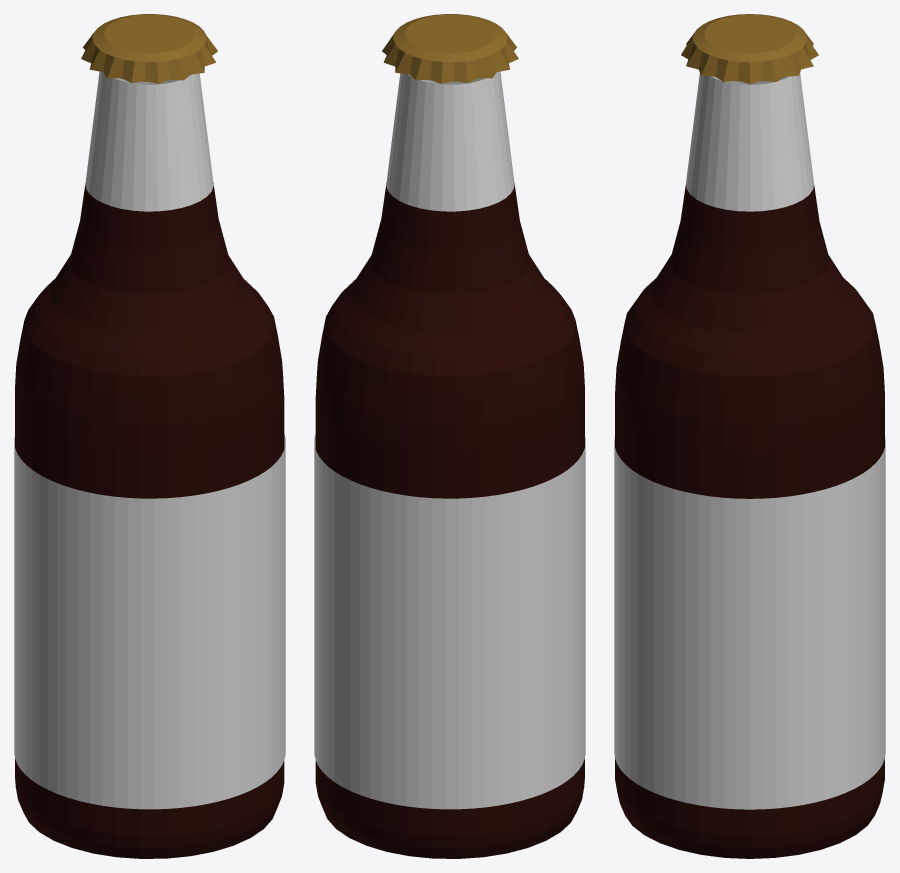
The model's file is bottle.fbx.
The picture shows the model from 3 angles, left to right: view 1: azimuth 30°, elevation 25°; view 2: azimuth 150°, elevation 25°; view 3: azimuth 270°, elevation 25°; orthographic projection.
Visible parts, largest first — view 1: Circle, Circle.001; view 2: Circle, Circle.001; view 3: Circle, Circle.001.
Boxes of the visible parts, x1,y1,x2,y2 form: Circle: (15, 14, 284, 858); Circle.001: (14, 434, 285, 809); Circle: (315, 14, 584, 858); Circle.001: (314, 434, 585, 809); Circle: (615, 14, 884, 858); Circle.001: (614, 437, 885, 809).
Bounding box in the file's own units: 271 × 854 × 271.
